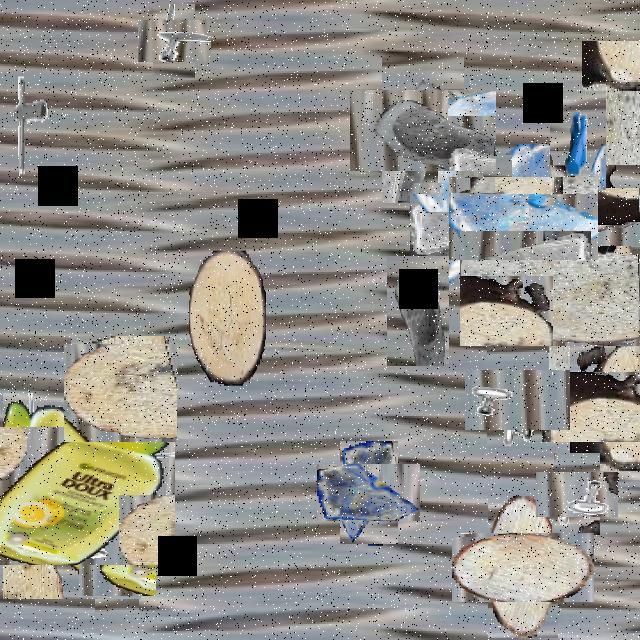glass: (466, 160, 582, 277), (366, 73, 480, 187), (424, 169, 526, 272), (387, 256, 449, 366), (329, 452, 409, 533)
metal: (476, 358, 558, 442), (0, 71, 56, 178), (550, 91, 606, 190), (545, 462, 609, 526), (86, 544, 148, 604), (0, 462, 58, 526), (145, 12, 203, 70)
plastic: (0, 410, 158, 582), (508, 114, 640, 319)
wood: (504, 210, 640, 390), (470, 514, 576, 620), (67, 340, 173, 446), (189, 250, 265, 386), (555, 357, 640, 456)
